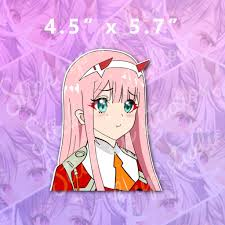zeroTwo: (60, 47, 153, 142)
